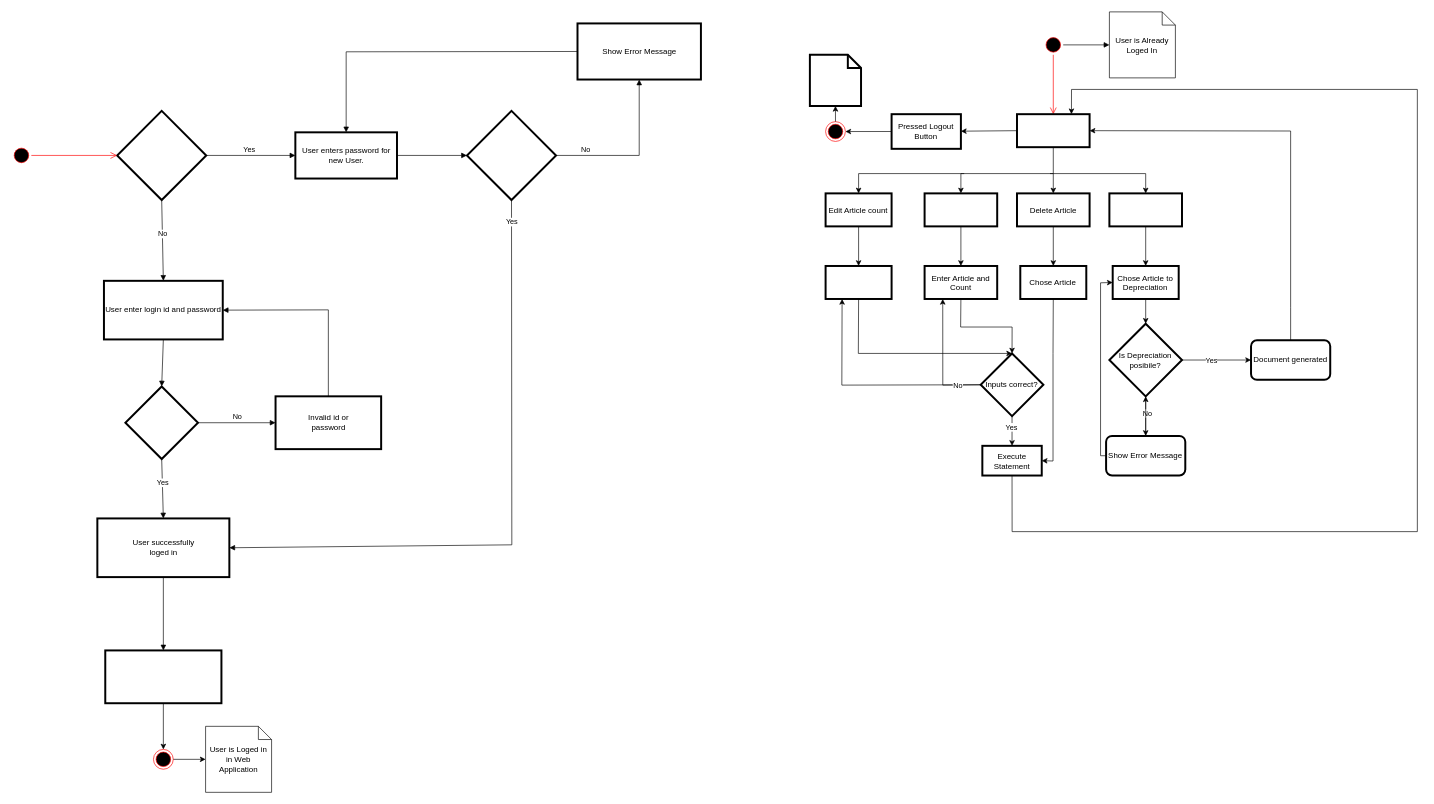
This 1434x804 diagram has some shape labels left out. Here are the shapes that lost their labels. From the top down, the centre of each, then its label:
point (835, 80): User Logged Out
point (1053, 130): Display Users Office Data
point (161, 155): New User?
point (511, 155): Password matches requirements.
point (960, 209): Get new Article
point (1145, 209): Depreciation
point (858, 282): Enter new Article Count
point (161, 422): Correct id and password?
point (163, 676): Users Data displayed
